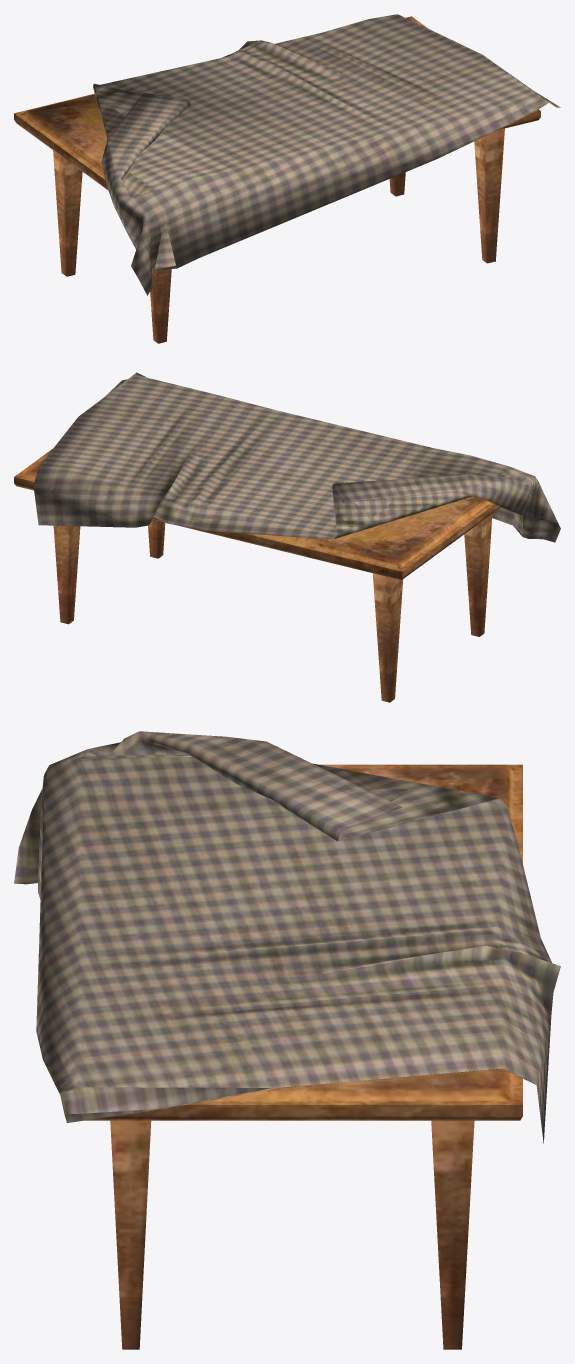
Rendered from dining_table.5bae9115.glb.
3 views of the same model, one above another, from view 1: azimuth 30°, elevation 25°; view 2: azimuth 150°, elevation 25°; view 3: azimuth 270°, elevation 25° (orthographic). The views are drawn at different scales.
Visible parts, largest first — view 1: dining_table_cloth, dining_table; view 2: dining_table_cloth, dining_table; view 3: dining_table_cloth, dining_table.
Boxes of the visible parts, box(x1,y1,x2,y2) form: dining_table_cloth: box(93, 14, 560, 295); dining_table: box(14, 16, 540, 343); dining_table_cloth: box(33, 372, 560, 542); dining_table: box(14, 448, 501, 702); dining_table_cloth: box(14, 731, 560, 1143); dining_table: box(85, 764, 522, 1349).
Bounding box in the file's own units: 2.26 × 0.877 × 1.39.
1 material, 1 textured.
